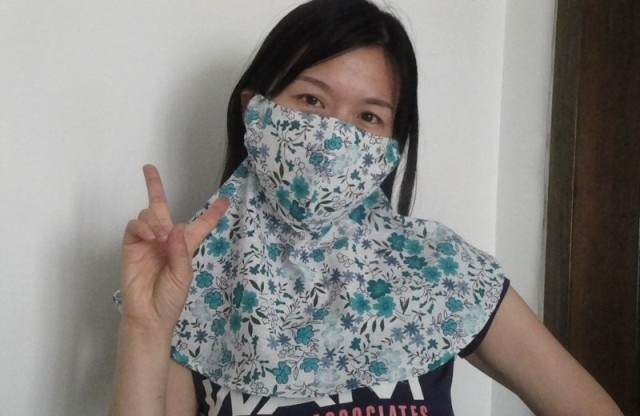face_mask: (258, 46, 399, 216)
